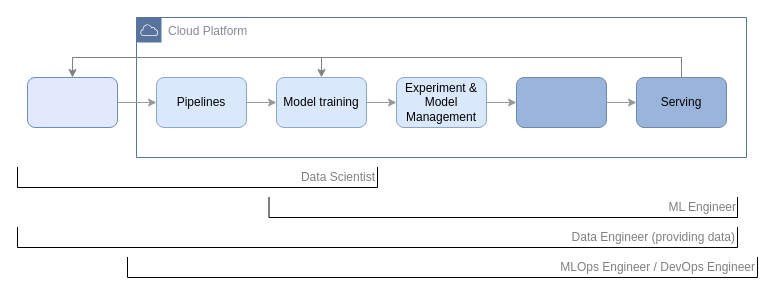
Some shapes in this 775 by 295 pixel diagram are drawn without their labels. Here are the shapes that lost their labels. From the top down, the box of each, then its label:
(26, 76, 118, 128): Develop
(516, 76, 606, 128): Deploy for production
